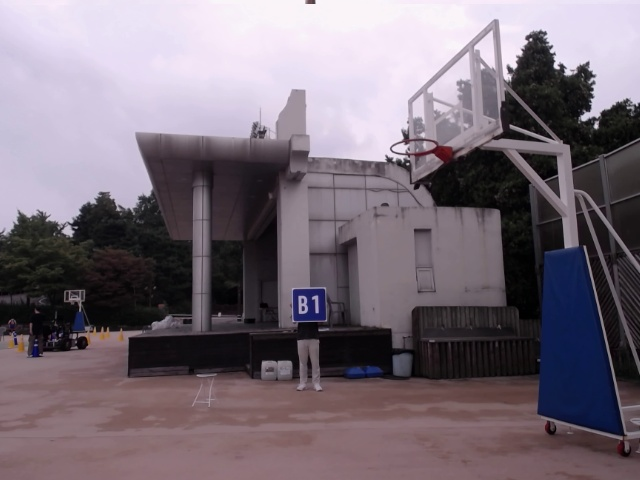delivery_b1: (292, 288, 328, 322)
